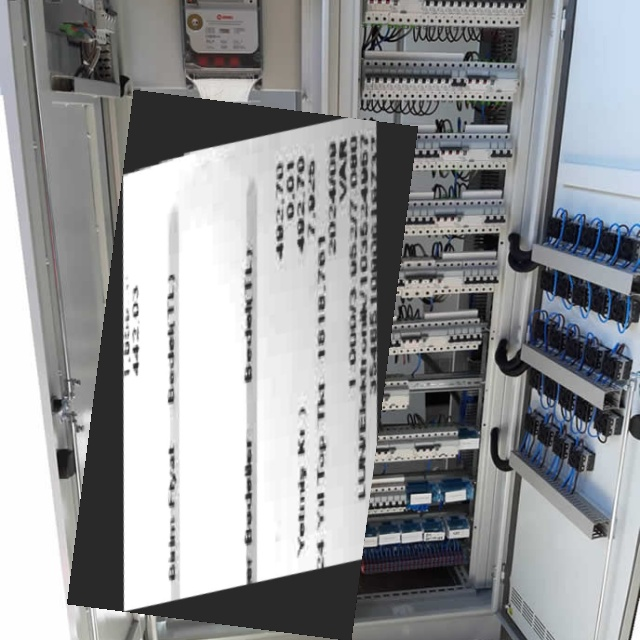electricity-bill: (66, 89, 418, 639)
